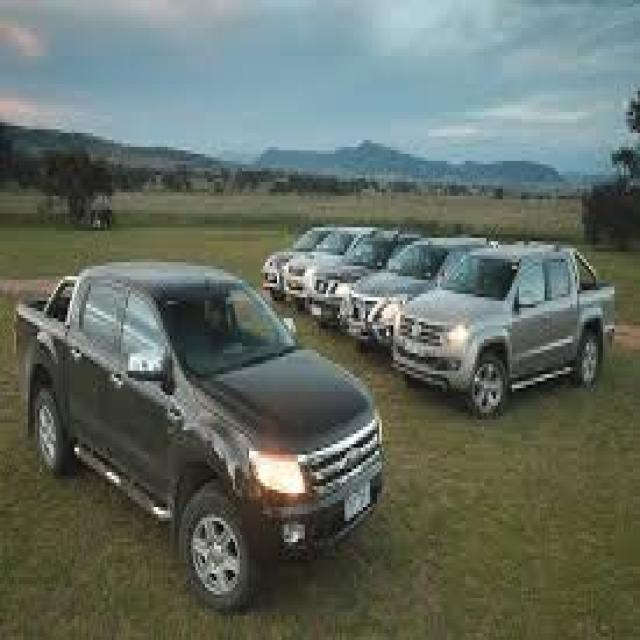Pickup Trucks: (11, 266, 382, 615), (391, 248, 640, 413)
